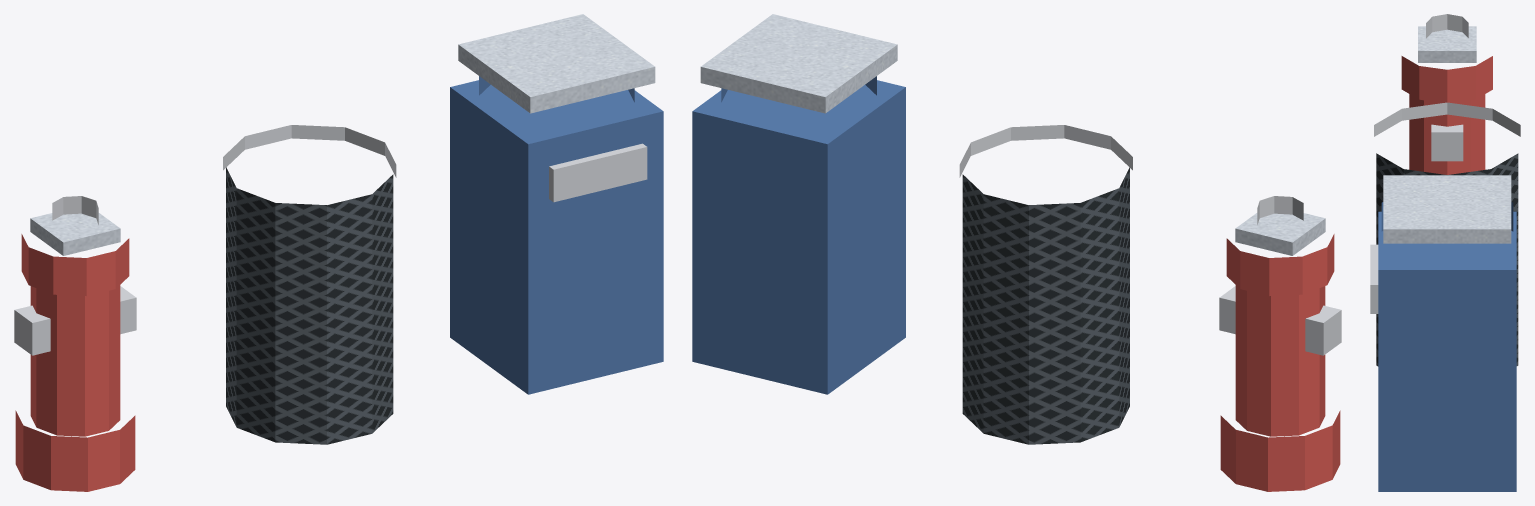
Rendered from nyc_street_props.glb.
3 renders of one model, left to right at view 1: azimuth 30°, elevation 25°; view 2: azimuth 150°, elevation 25°; view 3: azimuth 270°, elevation 25°, orthographic. The views are drawn at different scales.
Visible parts, largest first — view 1: nyc_street_props.glb; view 2: nyc_street_props.glb; view 3: nyc_street_props.glb.
Part boxes in pixels (x1,y1,x2,y2): nyc_street_props.glb: (14,14,663,491); nyc_street_props.glb: (692,14,1341,491); nyc_street_props.glb: (1370,14,1520,491).
Bounding box in the file's own units: 2.31 × 1.08 × 0.5658.
Materials: 5 (2 with a texture image).
